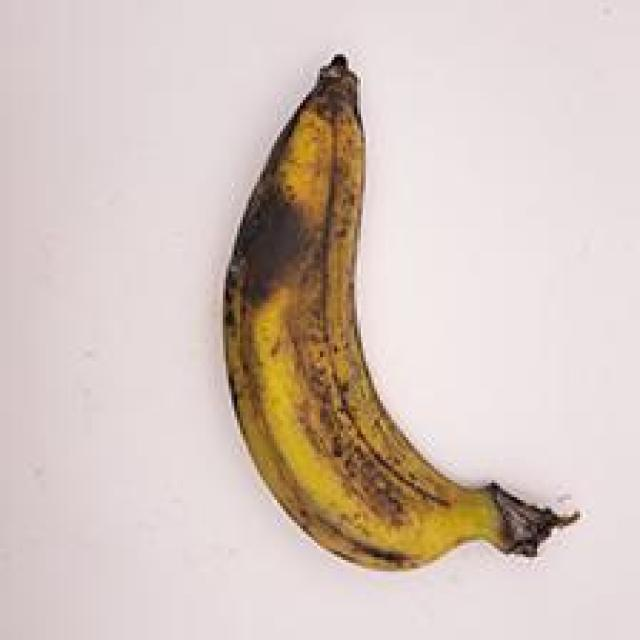Overripe: (190, 31, 594, 585)
